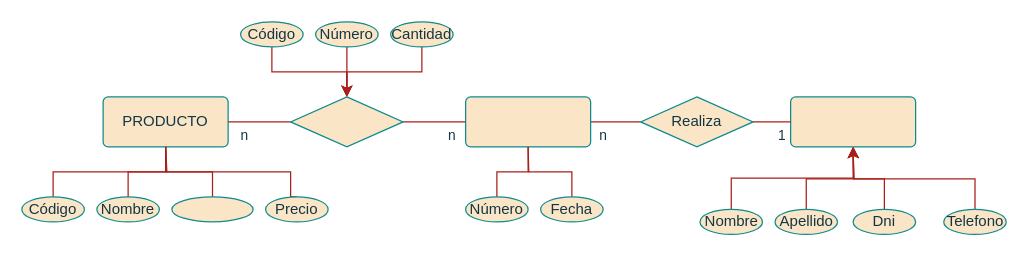
Some shapes in this 1029 by 256 pixel diagram are drawn without their labels. The shapes that lost their labels are listed below. From the top down, each one's centre as x and y in pixels, then its label:
At point 346,121: "Tiene".
At point 527,121: "VENTA".
At point 852,121: "CLIENTE".
At point 212,209: "Descripción".
